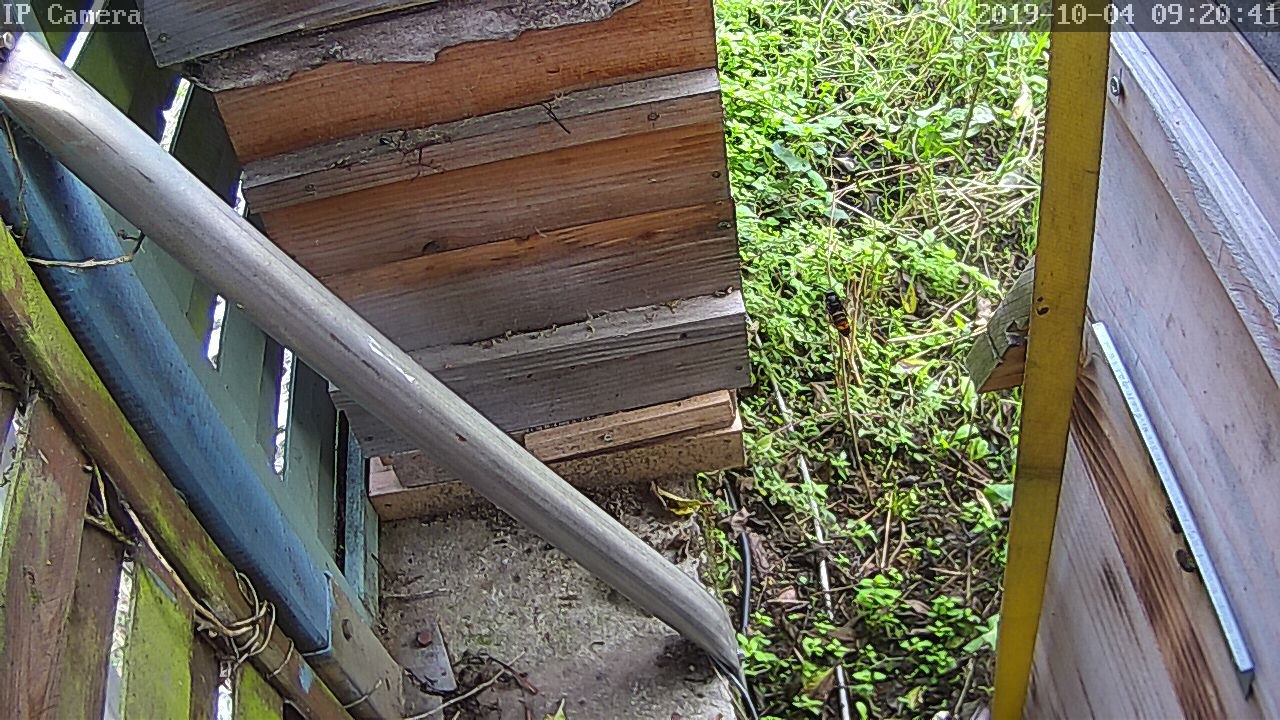bee: (1173, 540, 1201, 581), (1161, 502, 1186, 537)
hornet: (822, 284, 856, 341)
